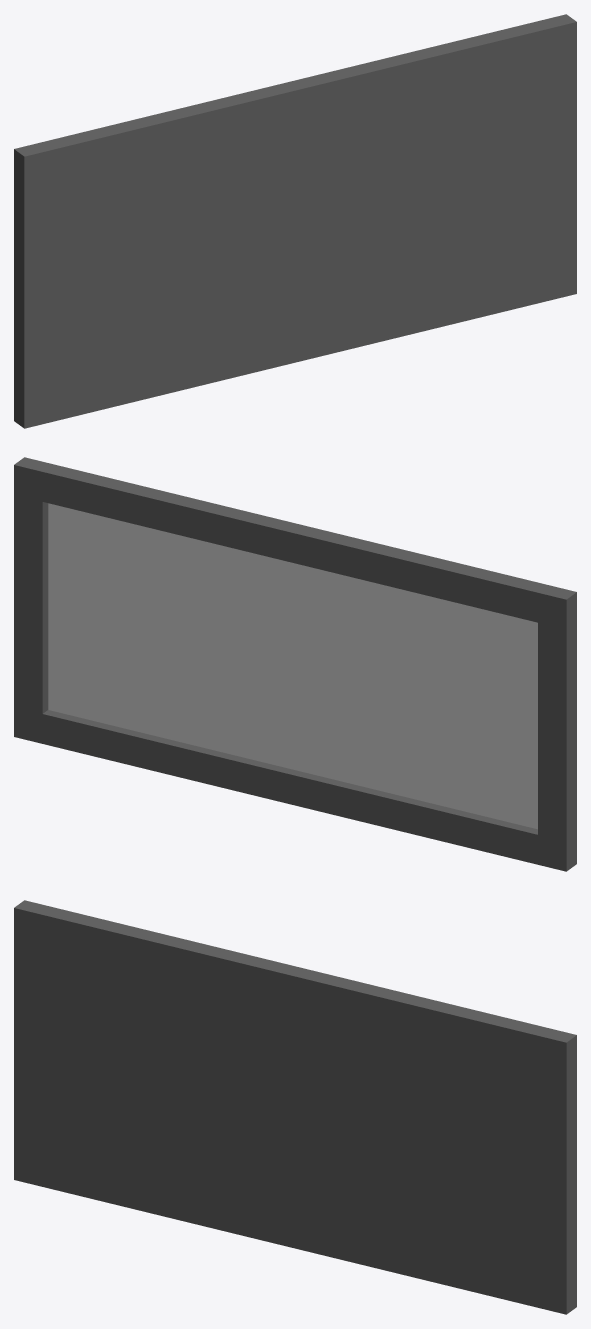
File: track_info_panel.fbx
3 views of the same model, one above another, from view 1: azimuth 30°, elevation 25°; view 2: azimuth 150°, elevation 25°; view 3: azimuth 330°, elevation 25° (orthographic).
Visible parts, largest first — view 1: track_info_panel; view 2: track_info_panel; view 3: track_info_panel.
Part boxes in pixels (x1,y1,x2,y2): track_info_panel: (14,14,576,428); track_info_panel: (14,457,576,871); track_info_panel: (14,900,576,1314).
Bounding box in the file's own units: 29.51 × 0.9707 × 13.89.
